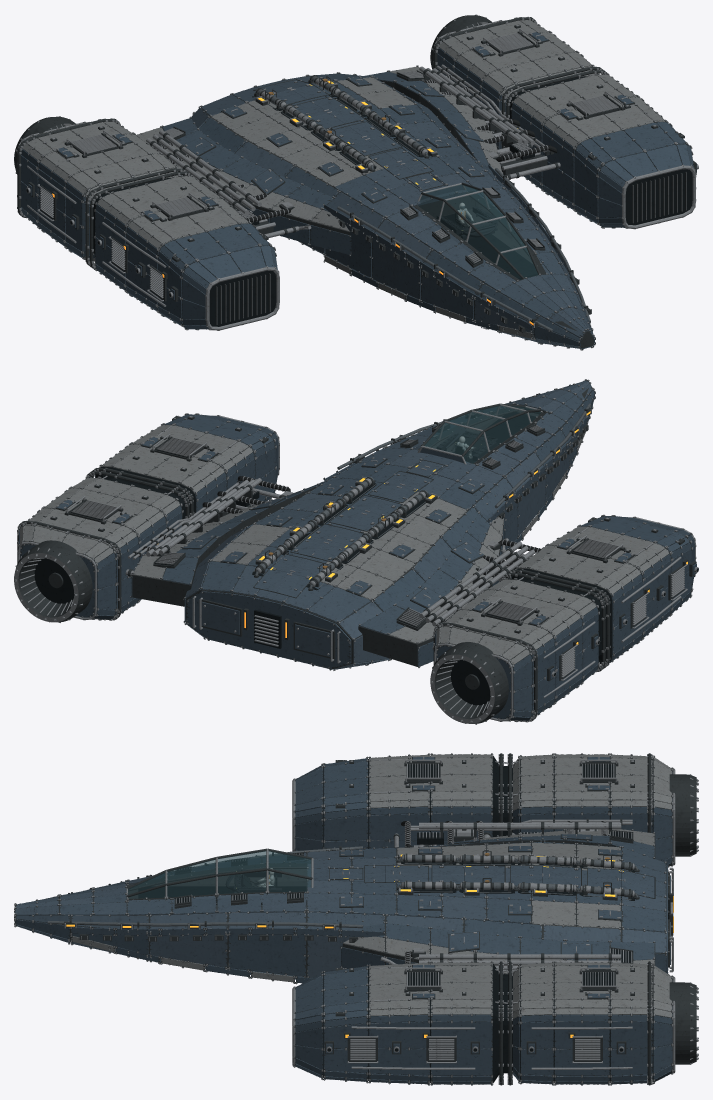
The model's file is courier-hull.glb.
The picture shows the model from 3 angles, top to bottom: view 1: azimuth 30°, elevation 25°; view 2: azimuth 150°, elevation 25°; view 3: azimuth 270°, elevation 25°; orthographic projection. The views are drawn at different scales.
Parts seen in each view (by area): view 1: blue-grey-1, pale-steel-1, dark-structure, machined-alloy, blue-grey-2, blue-grey-3, dorsal-access-covers, canopy-glass, blue-grey-0, engine-port, engine-starboard, recess-black (+5 smaller); view 2: blue-grey-1, pale-steel-1, dark-structure, machined-alloy, blue-grey-2, blue-grey-3, dorsal-access-covers, recess-black, canopy-glass, blue-grey-0, brushed-rail, engine-port (+3 smaller); view 3: blue-grey-1, pale-steel-1, dark-structure, machined-alloy, blue-grey-3, blue-grey-2, blue-grey-0, canopy-glass, dorsal-access-covers, recess-black, brushed-rail, engine-starboard (+4 smaller).
Boxes of the visible parts, box(x1,y1,x2,y2) form: blue-grey-1: box(21, 32, 696, 346); pale-steel-1: box(23, 20, 665, 261); dark-structure: box(14, 15, 696, 349); machined-alloy: box(14, 14, 698, 350); blue-grey-2: box(201, 80, 591, 338); blue-grey-3: box(191, 76, 585, 348); dorsal-access-covers: box(255, 80, 443, 189); canopy-glass: box(418, 184, 537, 279); blue-grey-0: box(199, 118, 594, 349); engine-port: box(23, 143, 276, 326); engine-starboard: box(439, 41, 692, 225); recess-black: box(26, 40, 619, 296); blue-grey-1: box(18, 380, 696, 720); pale-steel-1: box(20, 425, 669, 720); dark-structure: box(16, 380, 696, 723); machined-alloy: box(14, 379, 698, 724); blue-grey-2: box(201, 381, 592, 657); blue-grey-3: box(185, 381, 589, 669); dorsal-access-covers: box(254, 460, 443, 597); recess-black: box(34, 412, 698, 705); canopy-glass: box(424, 405, 540, 463); blue-grey-0: box(131, 390, 594, 666); brushed-rail: box(253, 403, 590, 588); engine-port: box(448, 535, 689, 711); blue-grey-1: box(15, 757, 672, 1084); pale-steel-1: box(343, 754, 672, 1084); dark-structure: box(14, 753, 696, 1085); machined-alloy: box(14, 753, 698, 1085); blue-grey-3: box(29, 848, 666, 977); blue-grey-2: box(15, 842, 670, 969); blue-grey-0: box(15, 842, 666, 983); canopy-glass: box(128, 851, 311, 898); dorsal-access-covers: box(329, 865, 654, 897); recess-black: box(138, 764, 670, 1051); brushed-rail: box(47, 846, 638, 928); engine-starboard: box(296, 963, 670, 1083).
Bounding box in the file's own units: 55.52 × 10.11 × 60.95.
Materials: 25 (16 with a texture image).
